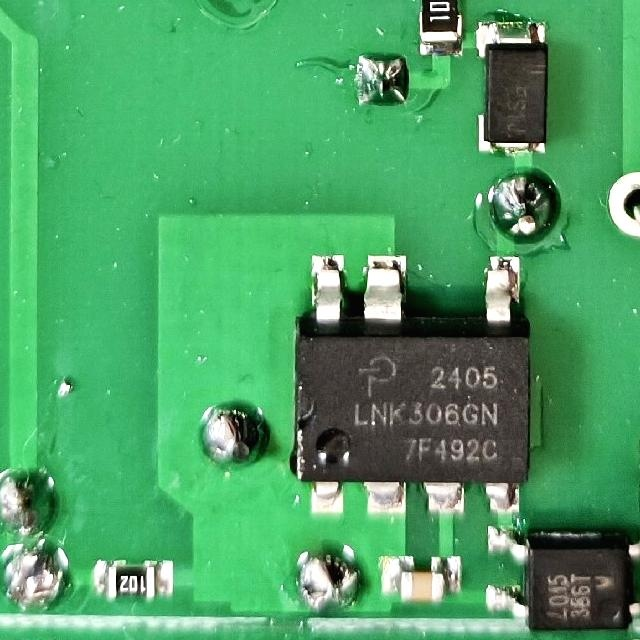chip-capacitor: (378, 553, 465, 603)
chip-resistor: (90, 557, 175, 603)
diode: (472, 11, 552, 157)
ic: (284, 248, 536, 516), (482, 520, 640, 632)
